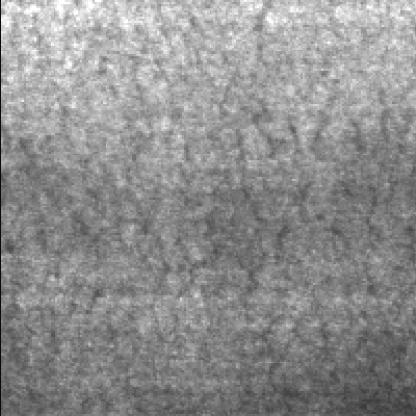crazing: (200, 2, 374, 397)
